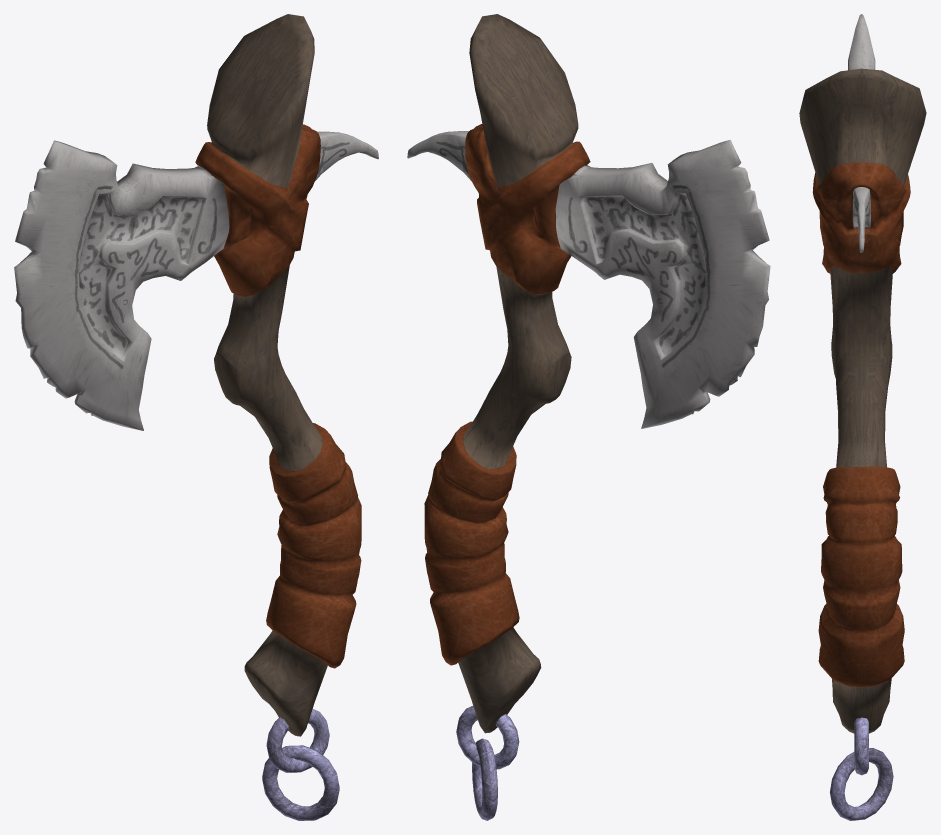
The model's file is low_poly_axe.glb.
3 views of the same model, side by side, from view 1: azimuth 30°, elevation 25°; view 2: azimuth 150°, elevation 25°; view 3: azimuth 270°, elevation 25° (orthographic). The views are drawn at different scales.
Visible parts, largest first — view 1: Axe_low_poly; view 2: Axe_low_poly; view 3: Axe_low_poly.
Part boxes in pixels (box(x1,y1,x2,y2)): Axe_low_poly: box(14, 14, 378, 820); Axe_low_poly: box(407, 14, 770, 820); Axe_low_poly: box(799, 14, 926, 820).
Bounding box in the file's own units: 212 × 448 × 68.58.
Materials: 2 (2 with a texture image).
